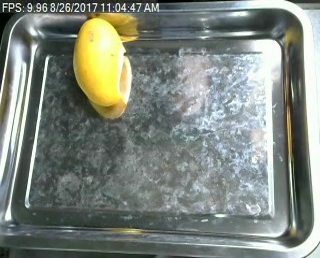Mango: (69, 15, 134, 108)
